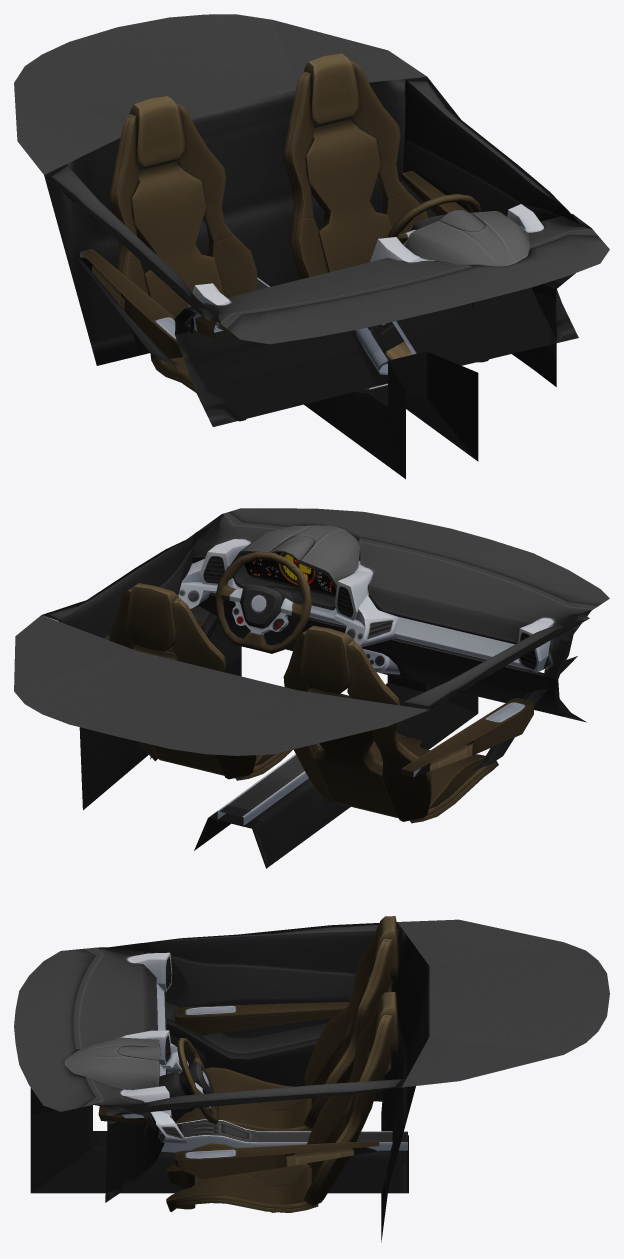
File: Car_15_Interior.FBX
The picture shows the model from 3 angles, top to bottom: view 1: azimuth 30°, elevation 25°; view 2: azimuth 150°, elevation 25°; view 3: azimuth 270°, elevation 25°; orthographic projection. The views are drawn at different scales.
Parts seen in each view (by area): view 1: Car_15_Interior_G; view 2: Car_15_Interior_G; view 3: Car_15_Interior_G.
Part boxes in pixels (x1,y1,x2,y2): Car_15_Interior_G: [14, 14, 609, 478]; Car_15_Interior_G: [14, 508, 609, 868]; Car_15_Interior_G: [14, 916, 609, 1242].
Bounding box in the file's own units: 1.52 × 2.22 × 0.9046.
